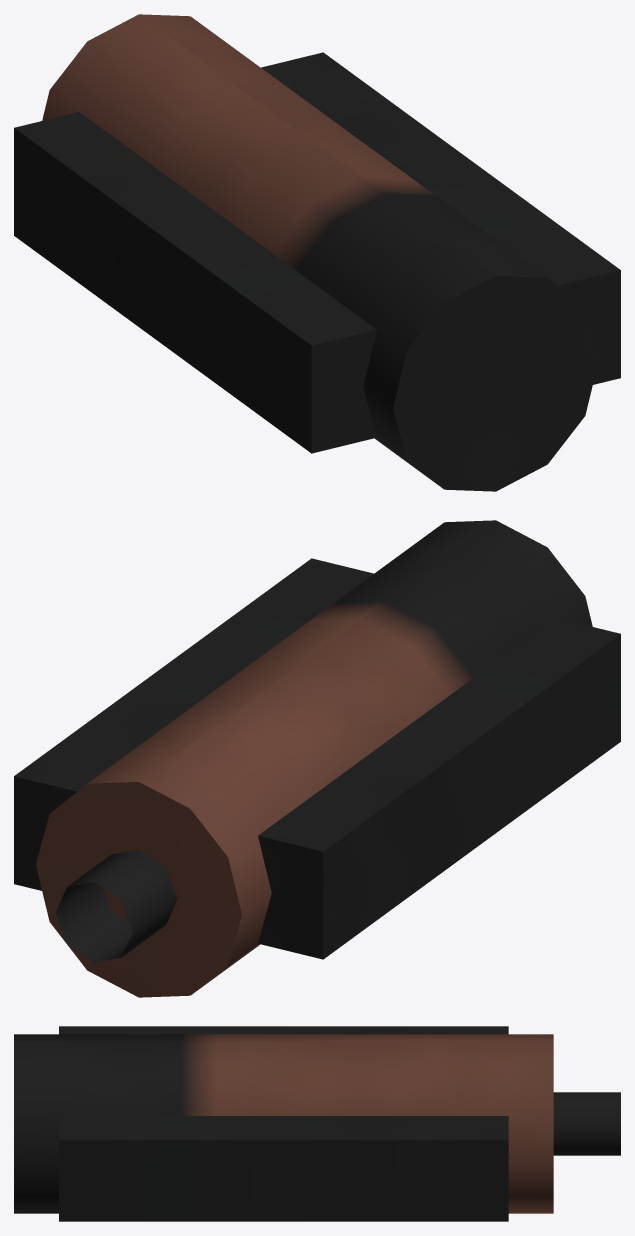
File: pupper.obj
The picture shows the model from 3 angles, top to bottom: view 1: azimuth 30°, elevation 25°; view 2: azimuth 150°, elevation 25°; view 3: azimuth 270°, elevation 25°; orthographic projection. The views are drawn at different scales.
Parts seen in each view (by area): view 1: 1; view 2: 1; view 3: 1.
Boxes of the visible parts, box(x1,y1,x2,y2) form: 1: box(14, 14, 620, 491); 1: box(14, 520, 620, 997); 1: box(14, 1026, 620, 1221).
Size of the model in its own units: 0.15 by 0.1 by 0.3375.
